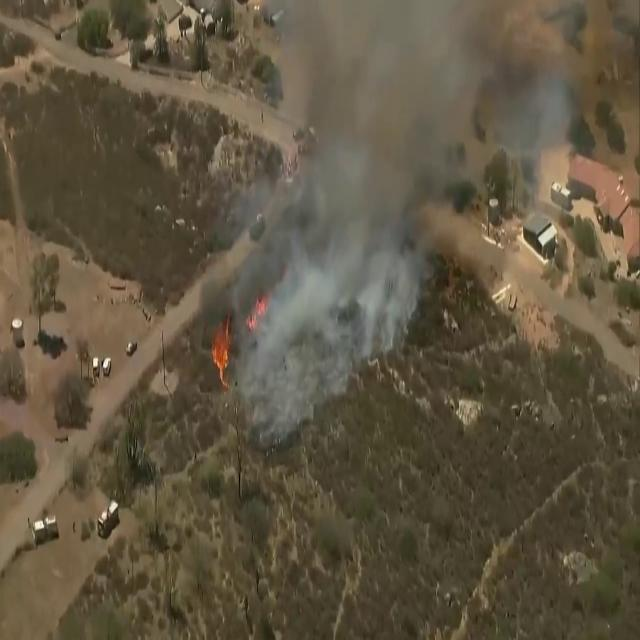Fire: (209, 310, 234, 386)
Smoke: (249, 0, 587, 374)
